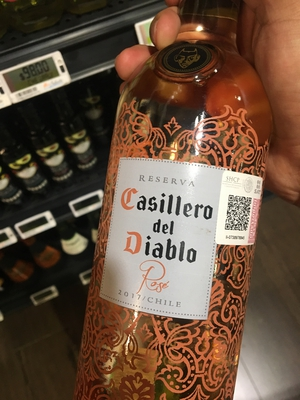casillero del diablo rose: (71, 18, 279, 400)
